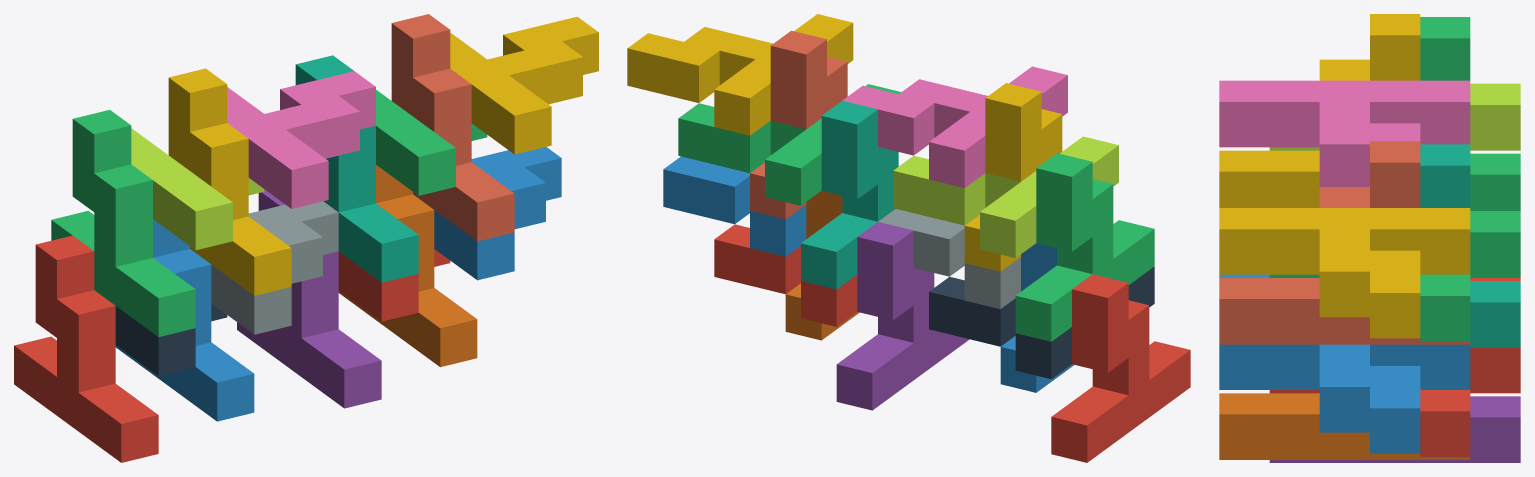
Rendered from tiling.obj.
The picture shows the model from 3 angles, left to right: view 1: azimuth 30°, elevation 25°; view 2: azimuth 150°, elevation 25°; view 3: azimuth 270°, elevation 25°; orthographic projection. The views are drawn at different scales.
Visible parts, largest first — view 1: copy_1_domain_1, copy_1_domain_3, copy_2_domain_4, copy_2_domain_8, copy_1_domain_8, copy_1_domain_4, copy_1_domain_5, copy_1_domain_7, copy_1_domain_2, copy_1_domain_6, copy_2_domain_2, copy_2_domain_6 (+4 smaller); view 2: copy_1_domain_1, copy_1_domain_3, copy_1_domain_5, copy_2_domain_8, copy_2_domain_4, copy_1_domain_7, copy_2_domain_3, copy_2_domain_7, copy_1_domain_4, copy_1_domain_8, copy_2_domain_1, copy_2_domain_6 (+4 smaller); view 3: copy_2_domain_8, copy_2_domain_4, copy_2_domain_6, copy_1_domain_8, copy_1_domain_4, copy_1_domain_6, copy_2_domain_7, copy_1_domain_7, copy_1_domain_3, copy_2_domain_5, copy_1_domain_5, copy_2_domain_3.
Boxes of the visible parts, x1=… form: copy_1_domain_1: x1=14, y1=235, x2=158, y2=462; copy_1_domain_3: x1=51, y1=110, x2=195, y2=337; copy_2_domain_4: x1=227, y1=71, x2=375, y2=208; copy_2_domain_8: x1=450, y1=16, x2=598, y2=154; copy_1_domain_8: x1=391, y1=14, x2=514, y2=241; copy_1_domain_4: x1=168, y1=68, x2=291, y2=295; copy_1_domain_5: x1=237, y1=189, x2=381, y2=408; copy_1_domain_7: x1=295, y1=55, x2=418, y2=282; copy_1_domain_2: x1=115, y1=219, x2=254, y2=421; copy_1_domain_6: x1=338, y1=165, x2=477, y2=367; copy_2_domain_2: x1=211, y1=201, x2=338, y2=334; copy_2_domain_6: x1=434, y1=147, x2=561, y2=280; copy_1_domain_1: x1=1051, y1=274, x2=1190, y2=462; copy_1_domain_3: x1=1015, y1=153, x2=1154, y2=341; copy_1_domain_5: x1=836, y1=222, x2=969, y2=410; copy_2_domain_8: x1=627, y1=14, x2=853, y2=135; copy_2_domain_4: x1=842, y1=66, x2=1067, y2=187; copy_1_domain_7: x1=801, y1=100, x2=898, y2=289; copy_2_domain_3: x1=893, y1=136, x2=1118, y2=257; copy_2_domain_7: x1=678, y1=84, x2=901, y2=205; copy_1_domain_4: x1=964, y1=83, x2=1062, y2=271; copy_1_domain_8: x1=750, y1=30, x2=847, y2=219; copy_2_domain_1: x1=929, y1=266, x2=1154, y2=379; copy_2_domain_6: x1=663, y1=156, x2=806, y2=256; copy_2_domain_8: x1=1219, y1=208, x2=1470, y2=338; copy_2_domain_4: x1=1219, y1=80, x2=1470, y2=186; copy_2_domain_6: x1=1219, y1=344, x2=1470, y2=453; copy_1_domain_8: x1=1219, y1=141, x2=1470, y2=344; copy_1_domain_4: x1=1219, y1=14, x2=1420, y2=207; copy_1_domain_6: x1=1219, y1=393, x2=1470, y2=459; copy_2_domain_7: x1=1269, y1=211, x2=1520, y2=341; copy_1_domain_7: x1=1420, y1=144, x2=1520, y2=347; copy_1_domain_3: x1=1420, y1=17, x2=1520, y2=210; copy_2_domain_5: x1=1269, y1=347, x2=1520, y2=456; copy_1_domain_5: x1=1269, y1=396, x2=1520, y2=462; copy_2_domain_3: x1=1269, y1=83, x2=1520, y2=150.
Bounding box in the file's own units: 14 × 8 × 6.
